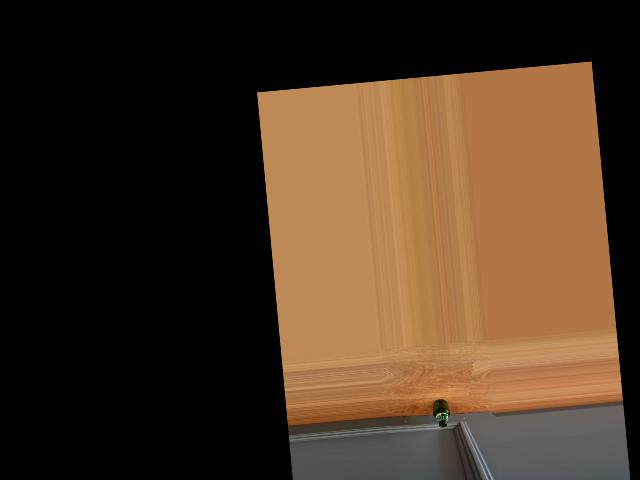beer: (431, 398, 451, 427)
